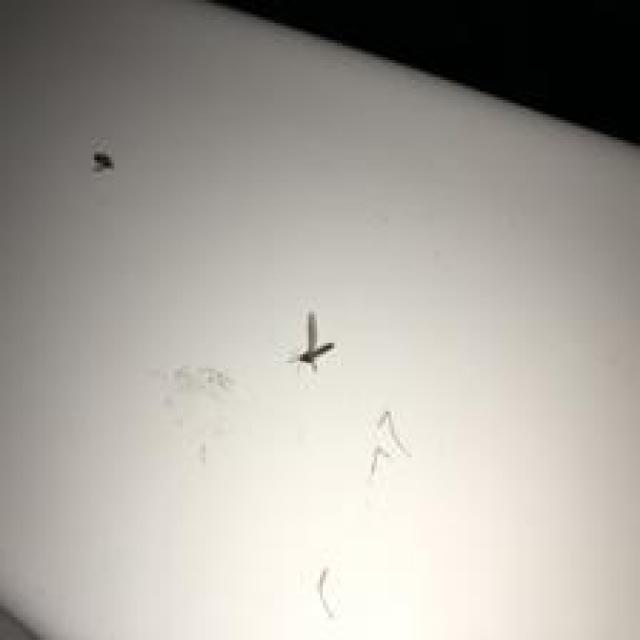Culex: (287, 310, 336, 373)
